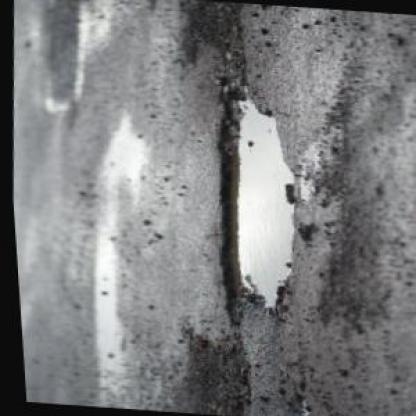pothole: (195, 83, 308, 319)
